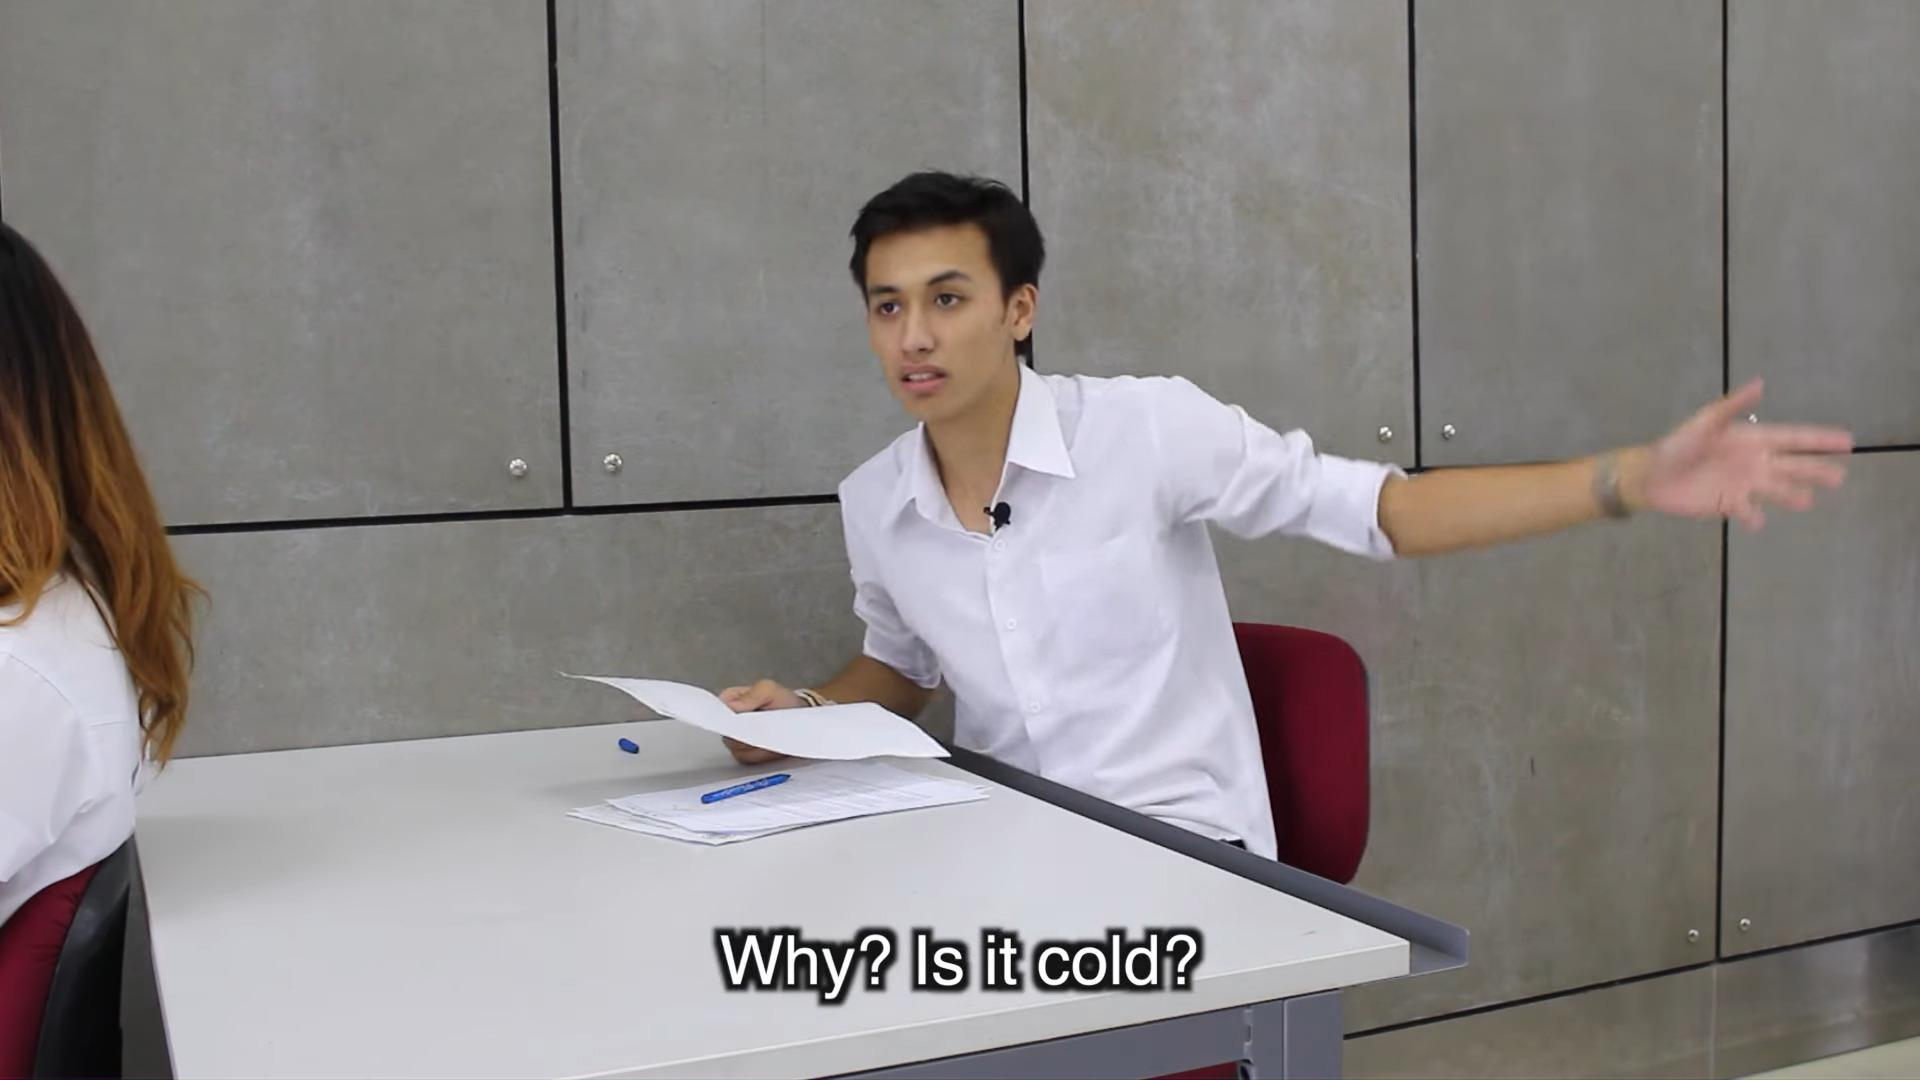cheating: (530, 148, 1887, 884)
